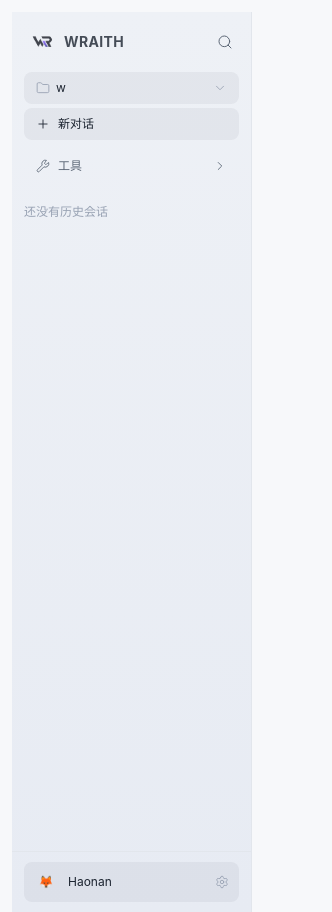
侧栏「工具」分组展开/折叠 › 闲置态:点头部展开→再点收起(基础 toggle)
This screenshot has width=332, height=912.
Click the button with test id "nav-tools-toggle".
click(132, 166)  # box x1=24 y1=152 x2=239 y2=180
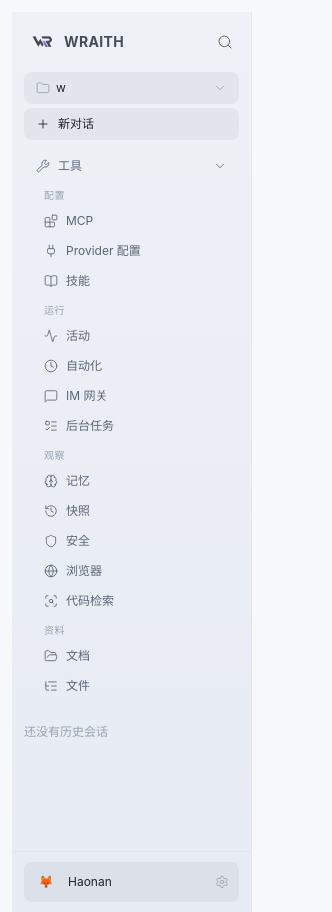
Expected: the button with test id "nav-plugins" is shown, x1=32 y1=207 x2=239 y2=235
Click the button with test id "nav-tools-toggle".
click(132, 166)  # box x1=24 y1=152 x2=239 y2=180
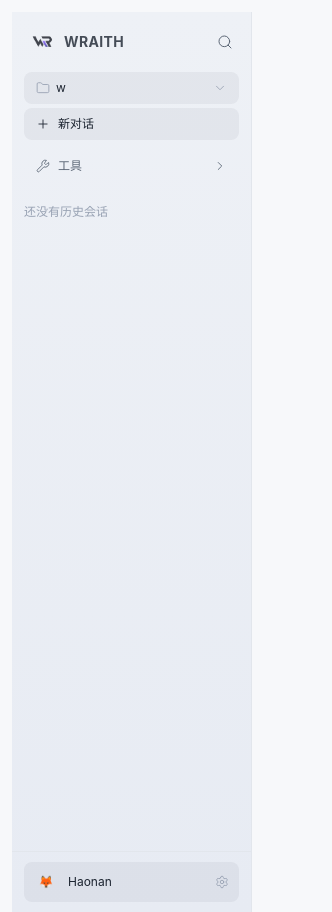
Expected: the button with test id "nav-plugins" is gone
